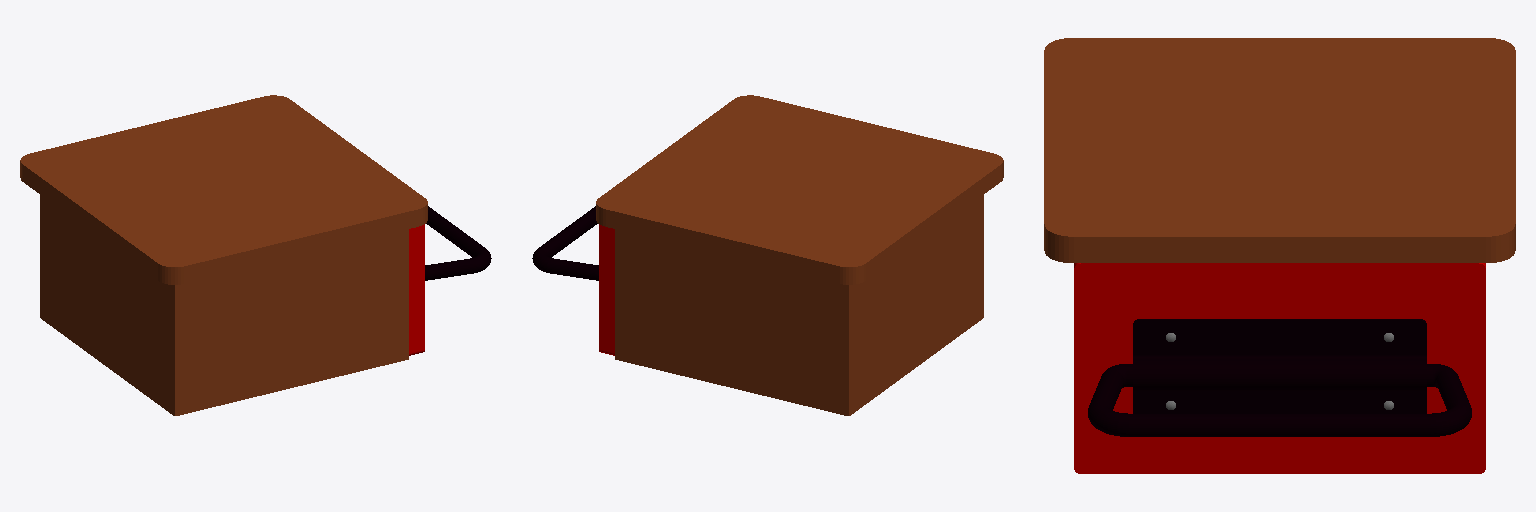
robot.urdf — drawer:
<?xml version="1.0" ?>
<!-- =================================================================================== -->
<!-- |    This document was autogenerated by xacro from drawer_box.xacro               | -->
<!-- |    EDITING THIS FILE BY HAND IS NOT RECOMMENDED                                 | -->
<!-- =================================================================================== -->
<robot name="drawer">
  <link name="base_footprint"/>
  <joint name="base_link_joint" type="fixed">
    <origin rpy="1.57079637 0 0" xyz="0 0 0"/>
    <parent link="base_footprint"/>
    <child link="base_link"/>
  </joint>
  <link name="base_link">
    <visual>
      <geometry>
        <mesh filename="package://wx250s_description/drawer_meshes/DAE/box/box.dae"/>
      </geometry>
    </visual>
    <collision>
      <geometry>
        <mesh filename="package://wx250s_description/drawer_meshes/STL/box/box.stl"/>
      </geometry>
    </collision>
    <inertial>
      <origin xyz="-0.075 0.053 0"/>
      <mass value="0.89"/>
      <inertia ixx="0.0029" ixy="0.000061" ixz="0" iyy="0.0037" iyz="0" izz="0.00266"/>
    </inertial>
    <surface>
      <friction>
        <ode>
          <mu>0.8</mu>
          <mu2>0.8</mu2>
          <kp>1e15</kp>
          <kd>1e13</kd>
        </ode>
      </friction>
      <bounce>
        <restitution_coefficient>0.01</restitution_coefficient>
        <threshold>10</threshold>
      </bounce>
      <contact>
        <ode>
          <max_vel>0.01</max_vel>
          <minDepth>0</minDepth>
          <contact_surface_layer>0</contact_surface_layer>
        </ode>
      </contact>
    </surface>
  </link>
  <joint name="drawer_joint" type="prismatic">
    <origin rpy="0 0 0" xyz="0.01 0.0 0.0"/>
    <parent link="base_link"/>
    <child link="drawer_link"/>
    <limit effort="100" lower="0" upper="0.12" velocity="100"/>
    <dynamics damping="0.1" friction="0.1"/>
    <axis xyz="1 0 0"/>
  </joint>
  <link name="drawer_link">
    <visual>
      <geometry>
        <mesh filename="package://wx250s_description/drawer_meshes/DAE/drawer/drawer.dae"/>
      </geometry>
    </visual>
    <collision>
      <geometry>
        <mesh filename="package://wx250s_description/drawer_meshes/STL/drawer/drawer.stl"/>
      </geometry>
    </collision>
    <inertial>
      <origin xyz="-0.06286 0.0033 0.0"/>
      <mass value="0.4"/>
      <inertia ixx="0.000889" ixy="0.0000217" ixz="0" iyy="0.00176" iyz="0" izz="0.00120"/>
    </inertial>
    <surface>
      <friction>
        <ode>
          <mu1>0.1</mu1>
          <mu2>0.1</mu2>
          <kp>1e15</kp>
          <kd>1e13</kd>
        </ode>
      </friction>
      <bounce>
        <restitution_coefficient>0.01</restitution_coefficient>
        <threshold>0</threshold>
      </bounce>
      <contact>
        <ode>
          <max_vel>10</max_vel>
        </ode>
      </contact>
    </surface>
  </link>
  <joint name="handle_joint" type="revolute">
    <origin rpy="0 0 0" xyz="0.00425 0.04 0.0"/>
    <parent link="drawer_link"/>
    <child link="handle_link"/>
    <limit effort="100" lower="-0.5" upper="0.5" velocity="100"/>
    <dynamics damping="0.1" friction="0.1"/>
    <axis xyz="0 0 1"/>
  </joint>
  <link name="handle_link">
    <visual>
      <geometry>
        <mesh filename="package://wx250s_description/drawer_meshes/DAE/handle/handle.dae"/>
      </geometry>
    </visual>
    <collision>
      <geometry>
        <mesh filename="package://wx250s_description/drawer_meshes/STL/handle/handle.stl"/>
      </geometry>
    </collision>
    <inertial>
      <origin xyz="0.026 0.0 0.0"/>
      <mass value="0.012"/>
      <inertia ixx="0.0000246" ixy="-0.0000030658" ixz="0.0" iyy="0.000027754" iyz="0.0" izz="0.000003240"/>
    </inertial>
    <surface>
      <friction>
        <ode>
          <mu1>1.2</mu1>
          <mu2>1.2</mu2>
          <kp>1e15</kp>
          <kd>1e13</kd>
        </ode>
      </friction>
      <bounce>
        <restitution_coefficient>0.01</restitution_coefficient>
        <threshold>0</threshold>
      </bounce>
      <contact>
        <ode>
          <max_vel>10</max_vel>
        </ode>
      </contact>
    </surface>
  </link>
</robot>

--- Facts derived from the render (not from the file) ---
Views: 3 orthographic renders of the robot side by side, from view 1: azimuth 30°, elevation 25°; view 2: azimuth 150°, elevation 25°; view 3: azimuth 270°, elevation 25°.
Model drawer with 4 links and 3 joints (1 revolute, 1 prismatic, 1 fixed), rooted at base_footprint, posed every joint at zero.
Links seen in each view (by area): view 1: base_link, handle_link, drawer_link; view 2: base_link, handle_link, drawer_link; view 3: base_link, drawer_link, handle_link.
Boxes of the visible links, left/top/right/bottom form: base_link: left=20, top=95, right=427, bottom=415; handle_link: left=425, top=206, right=491, bottom=280; drawer_link: left=409, top=224, right=424, bottom=355; base_link: left=596, top=95, right=1003, bottom=415; handle_link: left=532, top=206, right=598, bottom=280; drawer_link: left=599, top=224, right=614, bottom=355; base_link: left=1044, top=38, right=1515, bottom=262; drawer_link: left=1074, top=263, right=1485, bottom=473; handle_link: left=1088, top=364, right=1471, bottom=436.
Size in the robot's own frame: 0.2083 by 0.16 by 0.09 metres.
3 mesh visuals loaded from 3 distinct referenced files (3 Collada DAE).